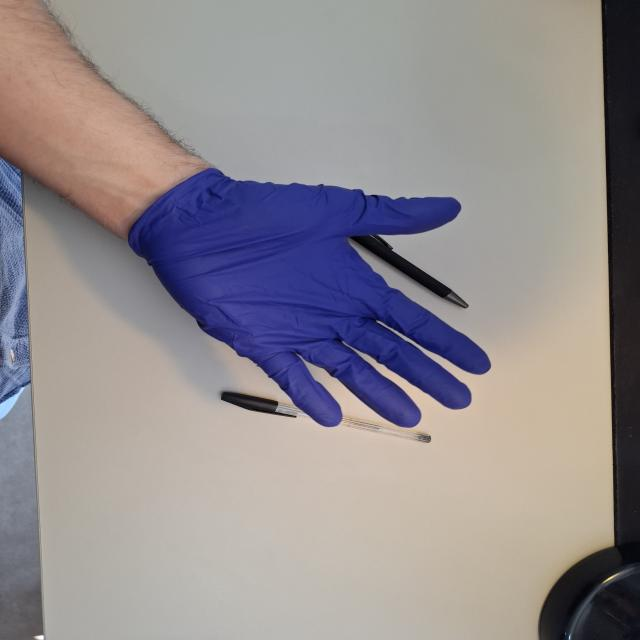glove_on: (123, 171, 494, 430)
